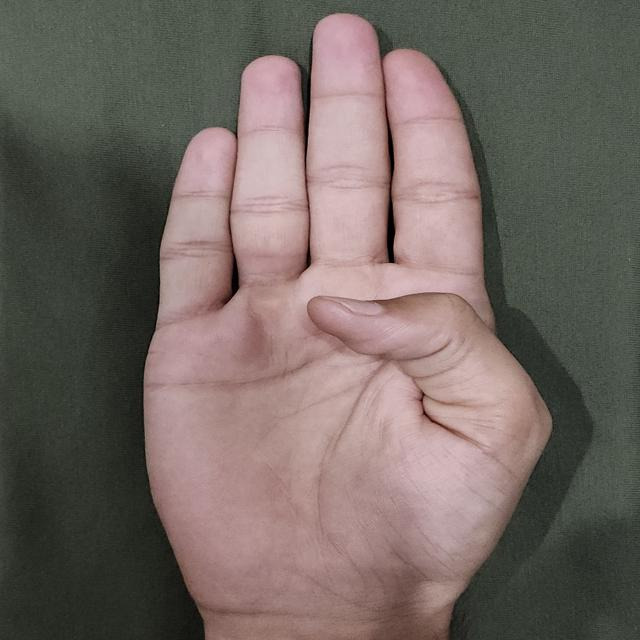ب: (122, 6, 571, 640)
